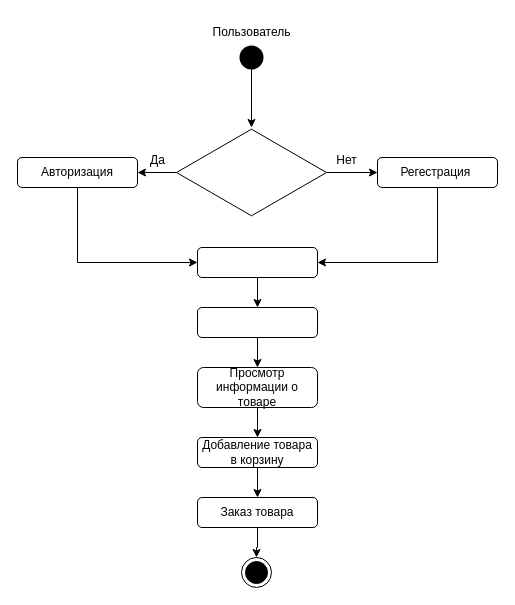
Some shapes in this 515 by 605 pixel diagram are drawn without their labels. The centre of each missing label's shape, as x and y in pixels:
Поиск товара: the point at 257,322
Пользователь зарегестрирован?: the point at 251,172
Просмотр каталога: the point at 257,262
